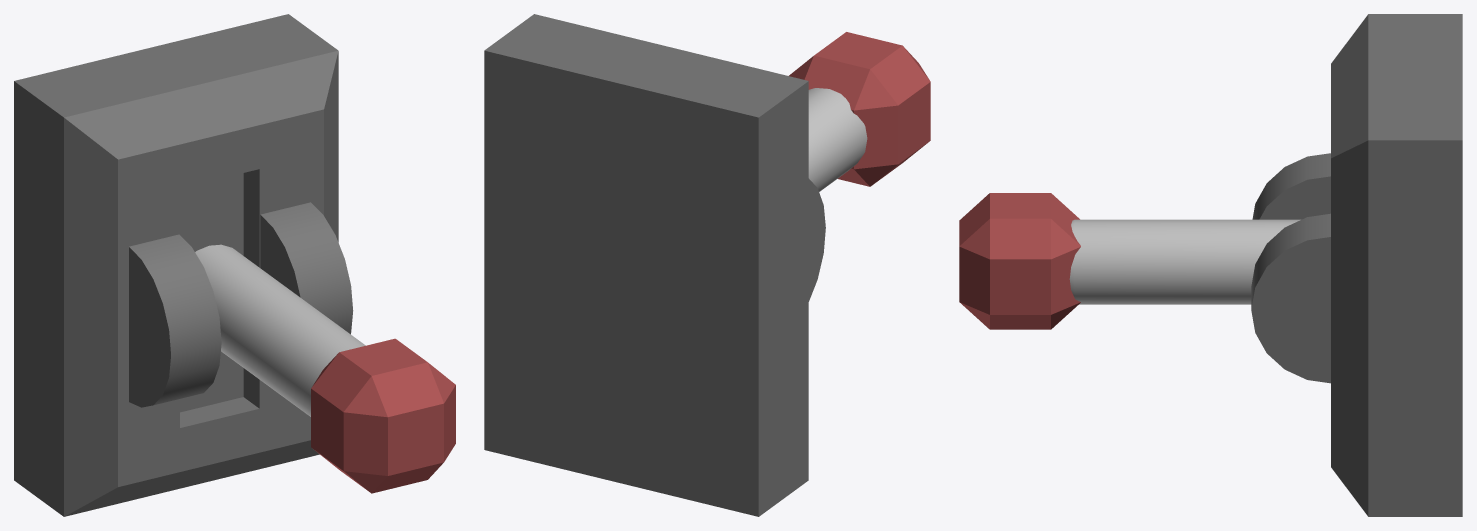
Rendered from GAME JAM LEVER.fbx.
The picture shows the model from 3 angles, left to right: view 1: azimuth 30°, elevation 25°; view 2: azimuth 150°, elevation 25°; view 3: azimuth 270°, elevation 25°; orthographic projection. The views are drawn at different scales.
Visible parts, largest first — view 1: pCube4, polySurface2; view 2: pCube4, polySurface2; view 3: pCube4, polySurface2.
Part boxes in pixels (<box>): pCube4: <box>14,14,353,516</box>; polySurface2: <box>195,244,455,493</box>; pCube4: <box>484,14,825,516</box>; polySurface2: <box>789,32,930,191</box>; pCube4: <box>1251,14,1462,516</box>; polySurface2: <box>959,193,1300,329</box>.
Bounding box in the file's own units: 1 × 1.39 × 1.68.
